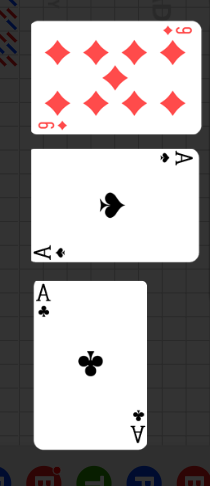9D: (161, 25, 193, 36)
AC: (36, 284, 54, 321), (128, 407, 145, 445)
